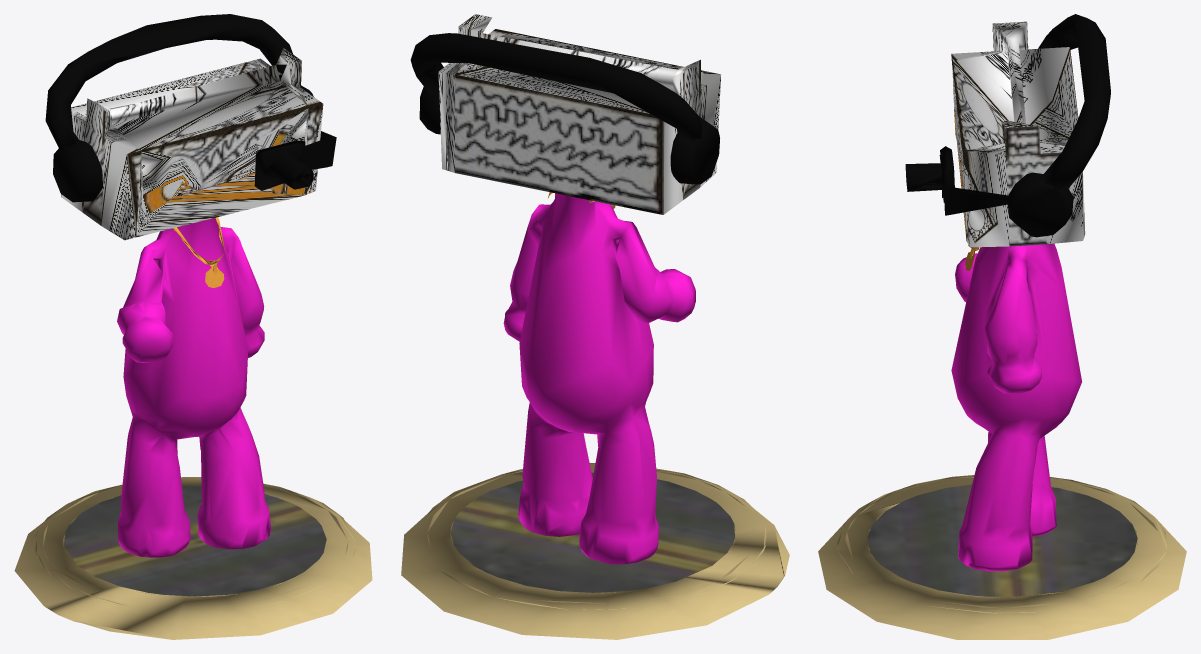
The picture shows the model from 3 angles, left to right: view 1: azimuth 30°, elevation 25°; view 2: azimuth 150°, elevation 25°; view 3: azimuth 270°, elevation 25°; orthographic projection. The views are drawn at different scales.
Bounding box in the file's own units: 1.42 × 2.22 × 1.43.
Materials: 6 (4 with a texture image).
